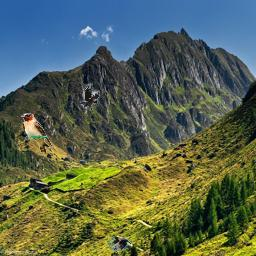Crow: (80, 83, 100, 111), (107, 237, 131, 251)
Swallow: (21, 113, 53, 153)
